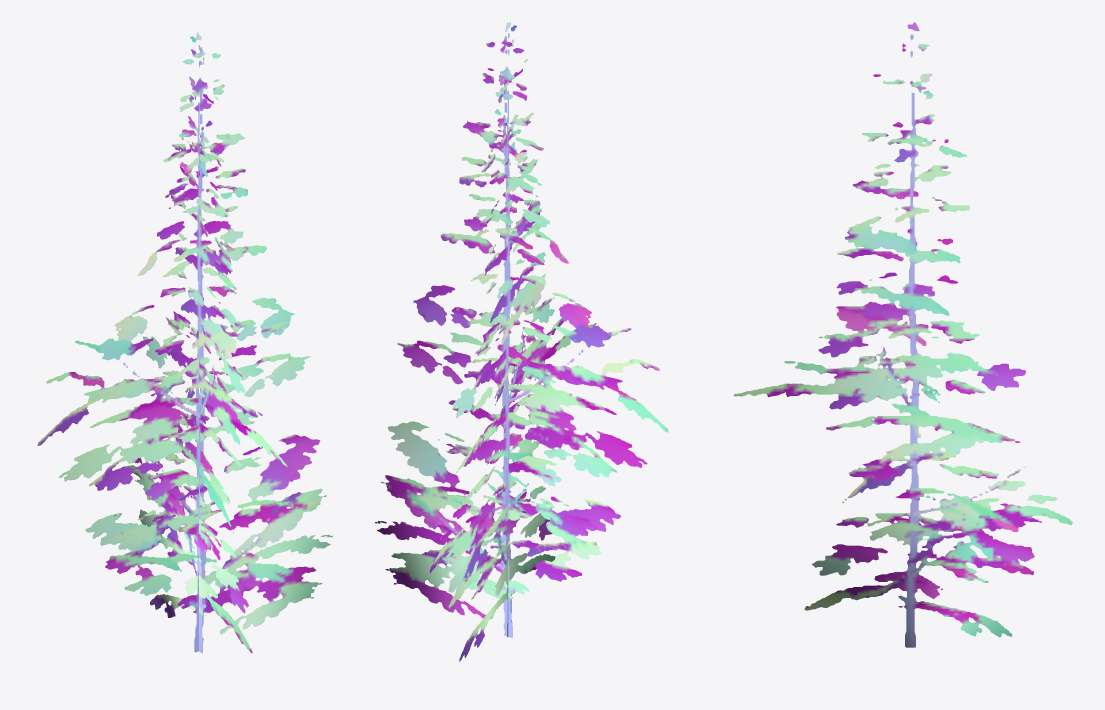
Rendered from maple_bush_04_cross.FBX.
3 renders of one model, left to right at view 1: azimuth 30°, elevation 25°; view 2: azimuth 150°, elevation 25°; view 3: azimuth 270°, elevation 25°, orthographic.
Parts seen in each view (by area): view 1: maple_bush_04_cross; view 2: maple_bush_04_cross; view 3: maple_bush_04_cross.
Part boxes in pixels (x1,y1,x2,y2): maple_bush_04_cross: (37, 32, 332, 653); maple_bush_04_cross: (375, 22, 668, 661); maple_bush_04_cross: (734, 22, 1072, 647).
Size of the model in its own units: 94.61 by 173 by 92.32.
